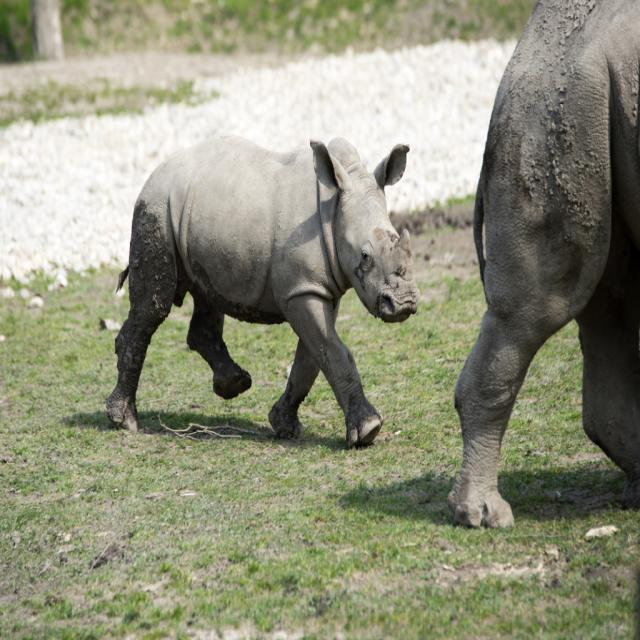rhino: (94, 120, 428, 510)
